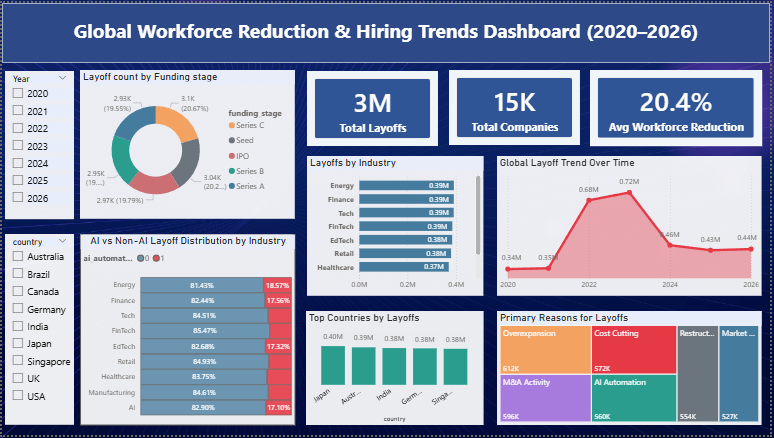

What the dashboard file says about the page in this screenshot:
{"tool":"powerbi","page":{"name":"Global Workforce Reduction & Hiring Trends Dashboard (2020–2026)  ","canvas":[1280,720],"ordinal":0},"visuals":[{"type":"textbox","box":[0,0,1280,100],"z":0},{"type":"cardVisual","fields":{"Data":["Count(global_layoffs_2020_2026.company)"]},"box":[745,111.7,218.3,125],"z":1000},{"type":"cardVisual","fields":{"Data":["global_layoffs_2020_2026.Avg Workforce Reduction Display"]},"box":[980,111.7,286.7,126.7],"z":2000},{"type":"clusteredBarChart","title":"Layoffs by Industry","fields":{"Category":["global_layoffs_2020_2026.industry"],"Y":["Sum(global_layoffs_2020_2026.layoff_count)"]},"box":[508.6,255.7,294.3,232.9],"z":3000},{"type":"clusteredColumnChart","title":"Top Countries by Layoffs","fields":{"Category":["global_layoffs_2020_2026.country"],"Y":["Sum(global_layoffs_2020_2026.layoff_count)"]},"box":[507.1,512.9,295.7,190],"z":4000},{"type":"lineChart","title":"Global Layoff Trend Over Time","fields":{"Category":["global_layoffs_2020_2026.layoff_date.Variation.Date Hierarchy.Year"],"Y":["Sum(global_layoffs_2020_2026.layoff_count)"]},"box":[825.7,255.7,441.4,232.9],"z":5000},{"type":"donutChart","title":"Layoff count by Funding stage","fields":{"Category":["global_layoffs_2020_2026.funding_stage"],"Y":["CountNonNull(global_layoffs_2020_2026.layoff_count)"]},"box":[130,111.7,358.3,248.3],"z":6000},{"type":"hundredPercentStackedBarChart","title":"AI vs Non-AI Layoff Distribution by Industry","fields":{"Y":["Sum(global_layoffs_2020_2026.layoff_count)"],"Series":["global_layoffs_2020_2026.ai_automation_flag"],"Category":["global_layoffs_2020_2026.industry"]},"box":[130,384.3,358.6,318.6],"z":7000},{"type":"treemap","title":"Primary Reasons for Layoffs","fields":{"Group":["global_layoffs_2020_2026.reason"],"Values":["Sum(global_layoffs_2020_2026.layoff_count)"]},"box":[825.7,512.9,441.4,190],"z":8000},{"type":"slicer","fields":{"Values":["global_layoffs_2020_2026.layoff_date.Variation.Date Hierarchy.Year"]},"box":[5,113.3,115,246.7],"z":9000},{"type":"slicer","fields":{"Values":["global_layoffs_2020_2026.country"]},"box":[5,385,115,318.3],"z":10000},{"type":"cardVisual","fields":{"Data":["Sum(global_layoffs_2020_2026.layoff_count)"]},"box":[508.3,113.3,218.3,125],"z":11000}]}

Visuals, with their boxes in screenshot pixels (x1, y1, x2, y2), scaled from the page's 1280x720 canvas onto the 774x438 screenshot:
textbox: region(0, 0, 773, 61)
cardVisual - Count(global_layoffs_2020_2026.company): region(450, 68, 582, 144)
cardVisual - global_layoffs_2020_2026.Avg Workforce Reduction Display: region(593, 68, 766, 145)
"Layoffs by Industry" clusteredBarChart: region(308, 156, 486, 297)
"Top Countries by Layoffs" clusteredColumnChart: region(307, 312, 485, 428)
"Global Layoff Trend Over Time" lineChart: region(499, 156, 766, 297)
"Layoff count by Funding stage" donutChart: region(79, 68, 295, 219)
"AI vs Non-AI Layoff Distribution by Industry" hundredPercentStackedBarChart: region(79, 234, 295, 428)
"Primary Reasons for Layoffs" treemap: region(499, 312, 766, 428)
slicer - global_layoffs_2020_2026.layoff_date.Variation.Date Hierarchy.Year: region(3, 69, 73, 219)
slicer - global_layoffs_2020_2026.country: region(3, 234, 73, 428)
cardVisual - Sum(global_layoffs_2020_2026.layoff_count): region(307, 69, 439, 145)
